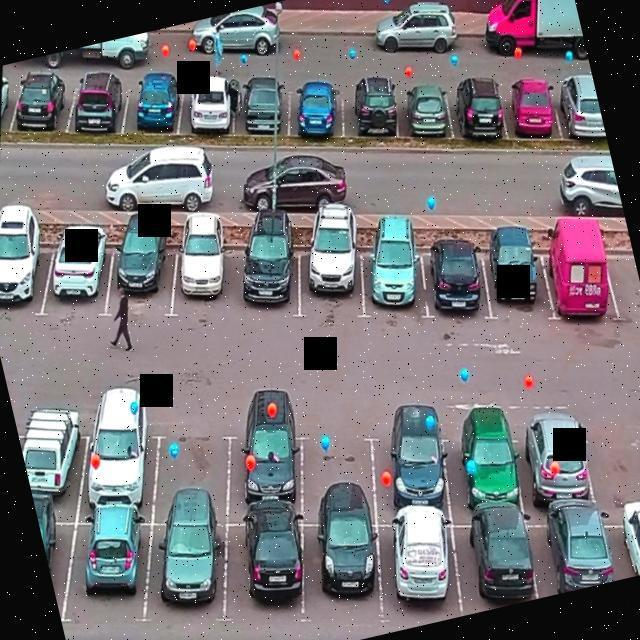car: (46, 491, 175, 640), (120, 502, 254, 640), (355, 498, 487, 634), (273, 502, 402, 638), (204, 394, 326, 534), (424, 492, 558, 618), (494, 398, 614, 533), (203, 502, 324, 634), (352, 395, 472, 528), (424, 402, 540, 526), (504, 498, 636, 602), (70, 395, 178, 517), (524, 226, 636, 338), (219, 222, 325, 337), (12, 396, 108, 522), (463, 227, 572, 337), (92, 220, 197, 328), (156, 219, 258, 327), (406, 226, 508, 334), (282, 225, 382, 331), (30, 221, 128, 329), (54, 54, 154, 159), (482, 50, 580, 157), (343, 228, 442, 329), (383, 57, 475, 156), (110, 61, 202, 158), (222, 58, 313, 156), (325, 60, 416, 158), (168, 52, 257, 151), (272, 58, 360, 154), (436, 66, 522, 162), (3, 60, 92, 152), (33, 492, 95, 620), (0, 214, 67, 328), (538, 58, 608, 158), (580, 498, 640, 585)
free: (276, 393, 402, 529), (134, 407, 248, 532), (552, 399, 640, 535), (588, 242, 640, 336)
